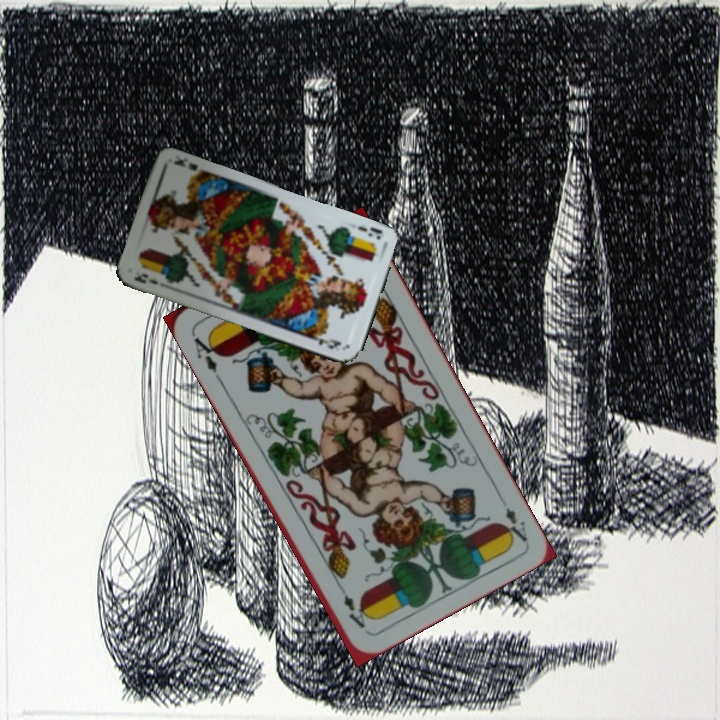EA: (188, 328, 223, 376), (497, 503, 530, 545)
EK: (354, 222, 386, 242), (130, 269, 161, 287)
